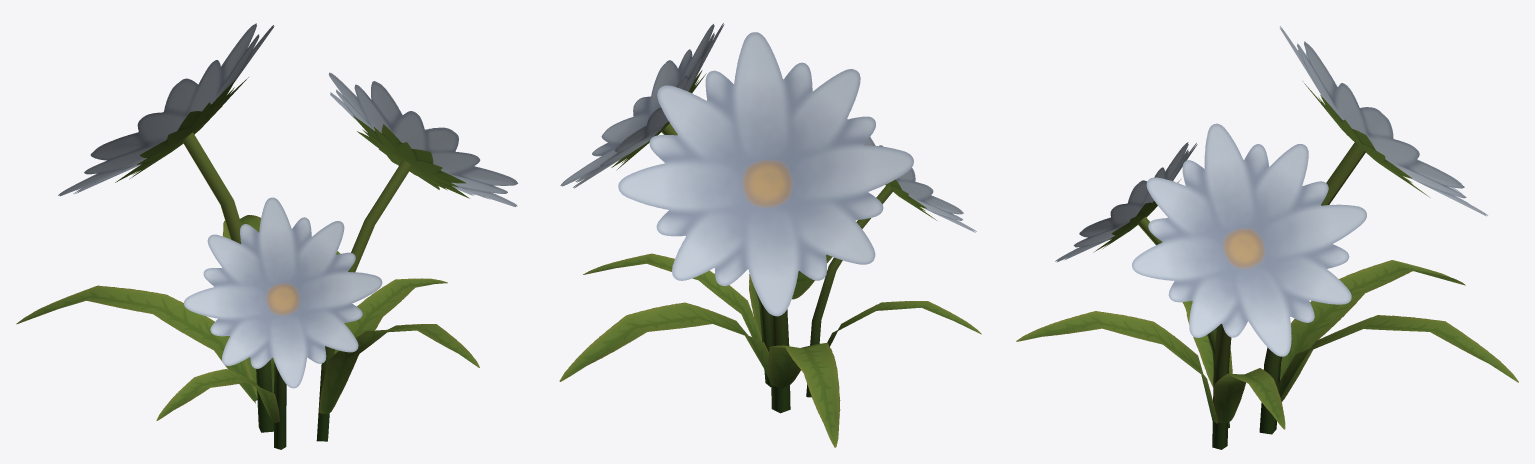
The model's file is flowerW.fbx.
3 views of the same model, side by side, from view 1: azimuth 30°, elevation 25°; view 2: azimuth 150°, elevation 25°; view 3: azimuth 270°, elevation 25° (orthographic).
Visible parts, largest first — view 1: flower3_lod0_var2; view 2: flower3_lod0_var2; view 3: flower3_lod0_var2.
Part boxes in pixels (box(x1,y1,x2,y2)): flower3_lod0_var2: box(16, 23, 517, 449); flower3_lod0_var2: box(559, 23, 981, 447); flower3_lod0_var2: box(1016, 26, 1518, 449).
Bounding box in the file's own units: 0.3079 × 0.35 × 0.302.
Materials: 1 (1 with a texture image).
